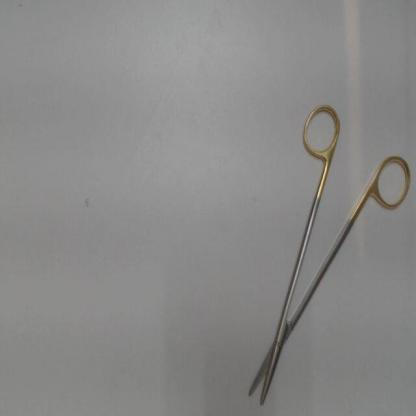7 Metzenbaum Scissors: (244, 98, 413, 410)
